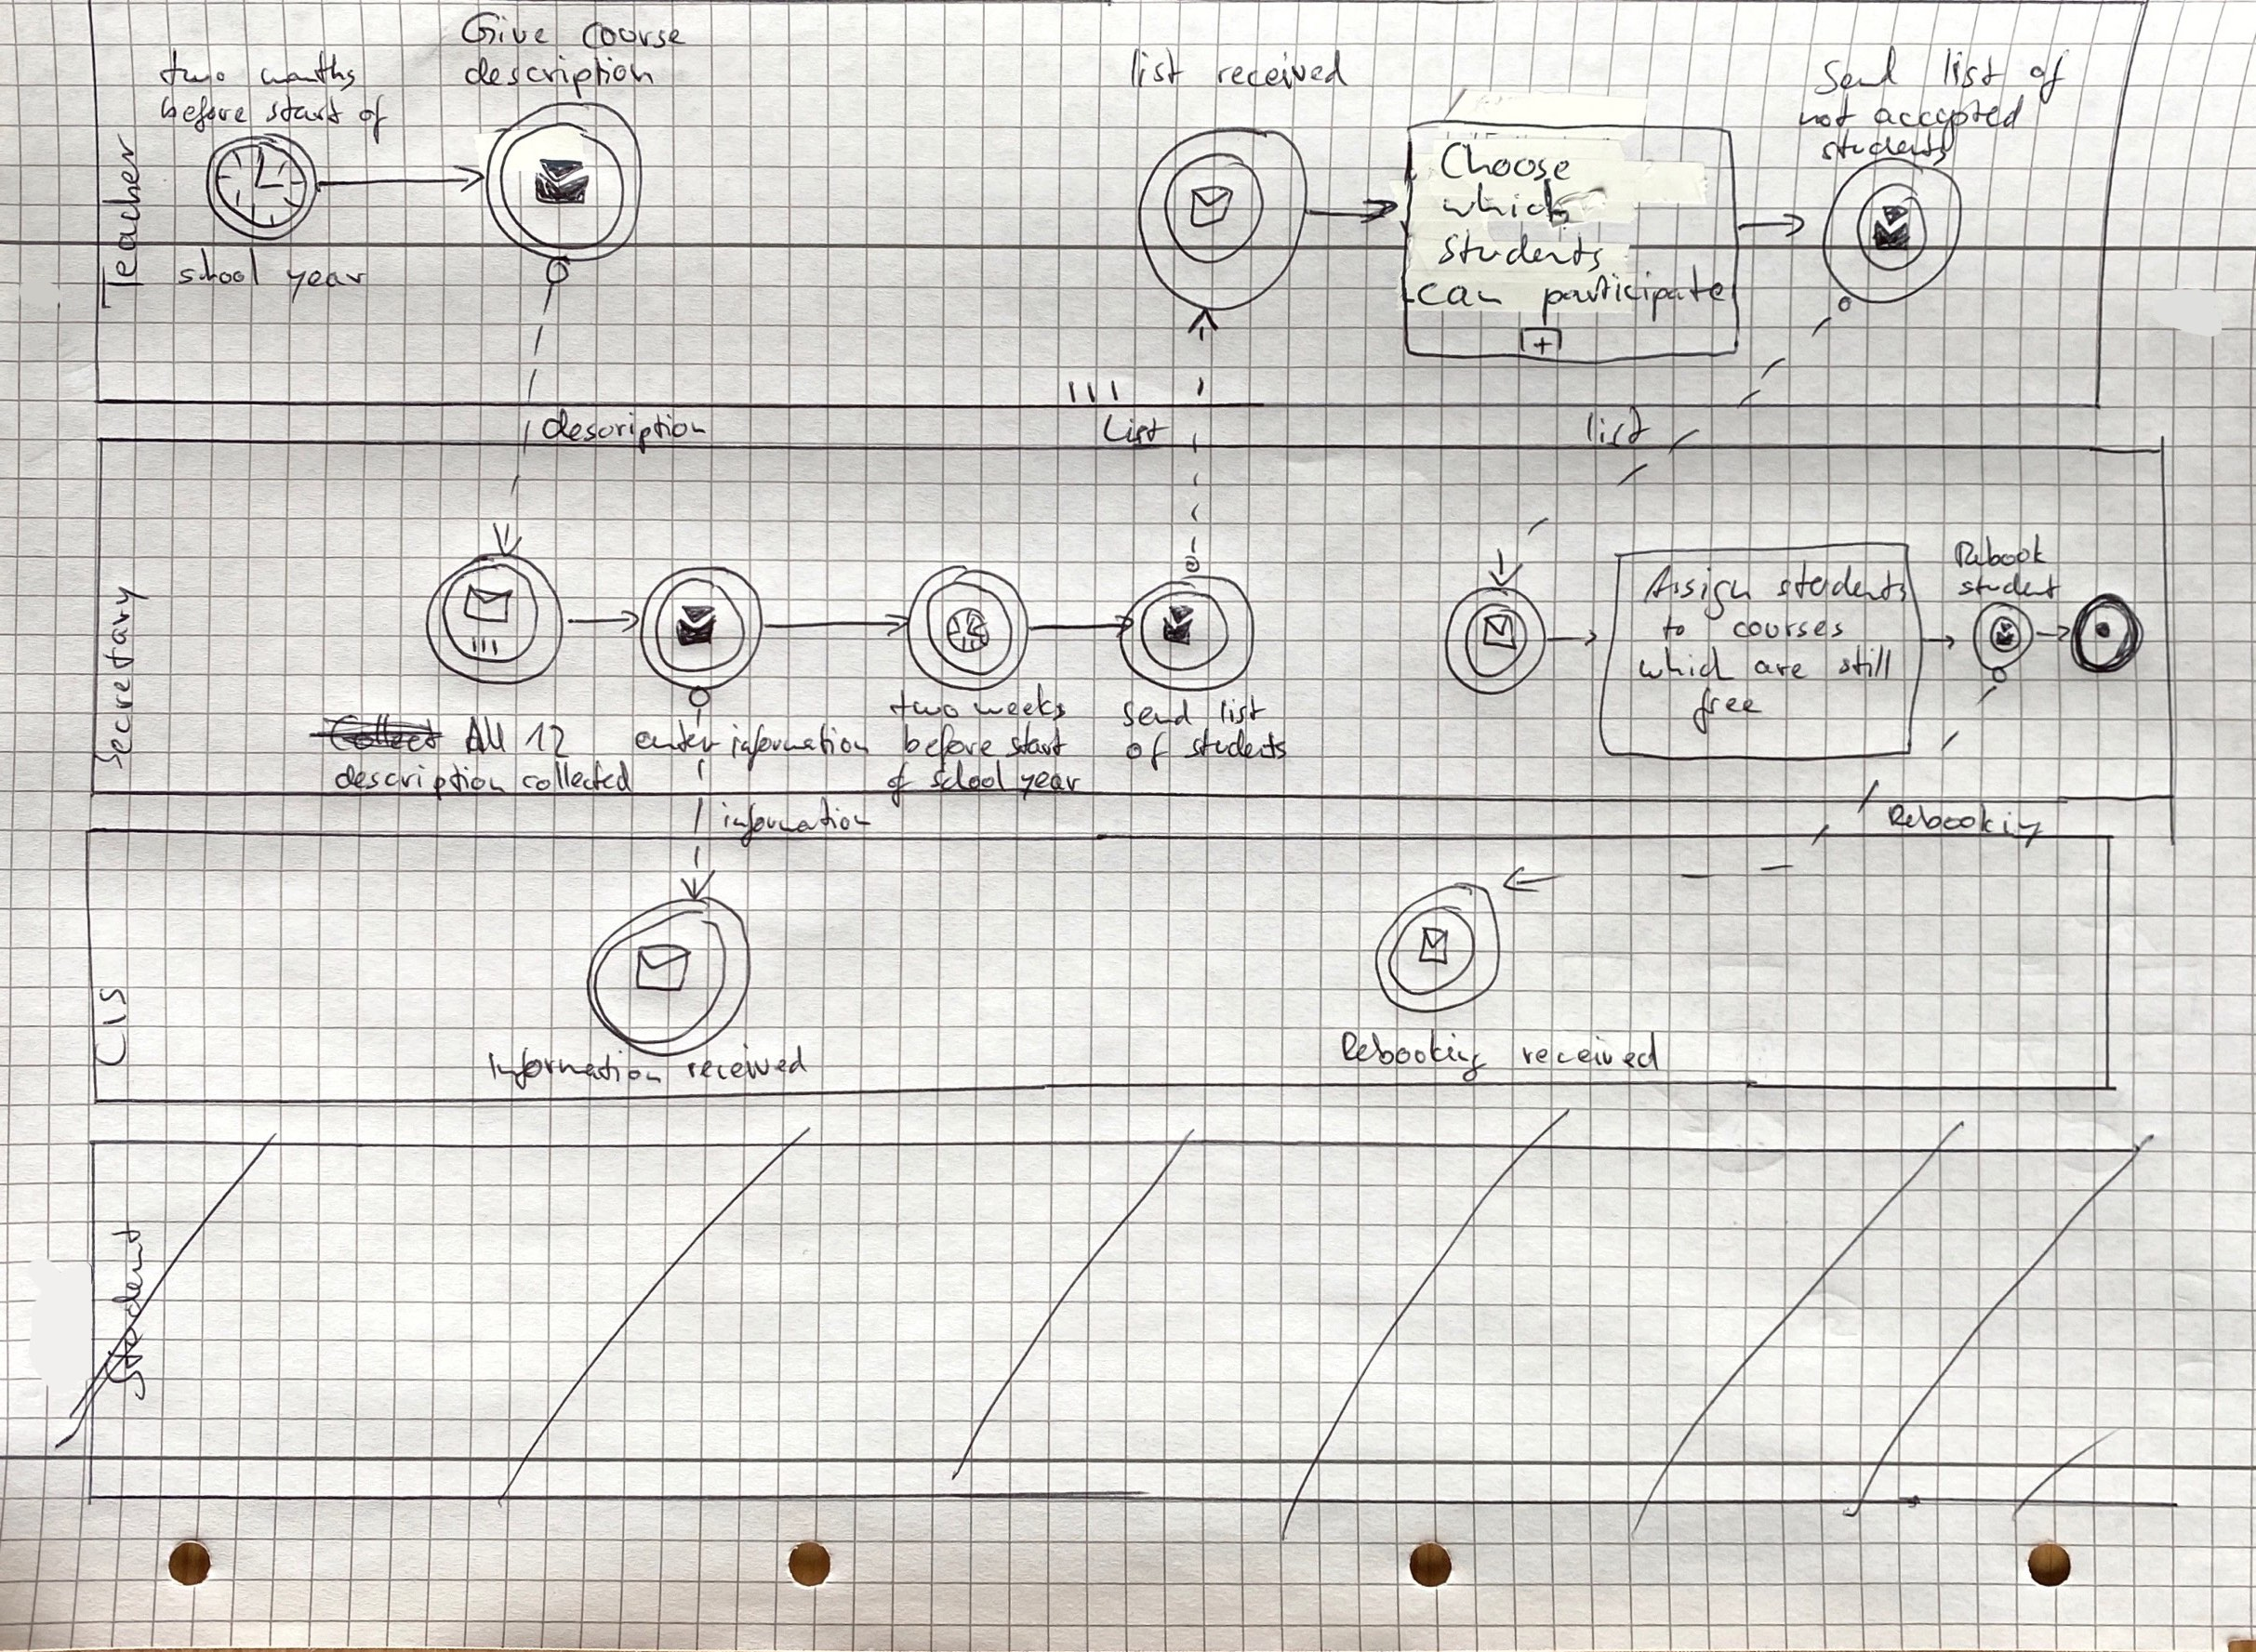12: (519, 714, 583, 761)
All: (464, 715, 520, 759)
Assign: (1646, 562, 1759, 618)
CIS: (92, 984, 131, 1067)
Choose: (1437, 145, 1573, 180)
Give: (465, 10, 553, 52)
III: (1064, 378, 1124, 405)
Information: (484, 1045, 664, 1091)
Rebook: (1950, 535, 2050, 571)
Rebooking: (1883, 800, 2043, 850), (1340, 1030, 1486, 1083)
Teacher: (101, 136, 153, 307)
accepted: (1869, 98, 2034, 132)
are: (1752, 652, 1821, 690)
before: (898, 724, 996, 765), (157, 93, 253, 133)
can: (1416, 277, 1518, 318)
collected: (520, 760, 633, 793)
course: (579, 21, 690, 50)
courses: (1727, 613, 1852, 649)
description: (469, 55, 658, 95), (338, 762, 516, 797), (538, 412, 705, 448)
enter: (631, 720, 715, 762)
free: (1688, 688, 1768, 726)
information: (719, 796, 877, 848), (723, 723, 872, 767)
list: (1095, 412, 1173, 454), (1938, 50, 2003, 95), (1582, 408, 1648, 450), (1128, 48, 1181, 94), (1215, 692, 1268, 730)
months: (258, 50, 355, 95)
not: (1799, 99, 1863, 133)
of: (2029, 50, 2070, 105), (1121, 732, 1176, 772), (354, 97, 391, 148), (882, 759, 918, 808)
participate: (1543, 273, 1731, 318)
received: (1212, 54, 1348, 95), (1518, 1030, 1663, 1067), (683, 1050, 809, 1085)
school: (175, 250, 265, 292), (929, 760, 1010, 797)
secretary: (98, 587, 149, 774)
send: (1811, 51, 1901, 92), (1117, 694, 1197, 731)
start: (265, 96, 350, 130), (1002, 726, 1069, 764)
still: (1834, 647, 1896, 685)
student: (1955, 567, 2065, 605)
students: (1434, 231, 1608, 277), (1775, 565, 1912, 606), (1820, 130, 1957, 166), (1183, 729, 1284, 759)
to: (1657, 610, 1692, 643)
two: (160, 51, 233, 95), (885, 688, 961, 717)
weeks: (974, 686, 1069, 726)
which: (1440, 184, 1571, 224), (1638, 647, 1738, 687)
year: (285, 264, 366, 305), (1018, 772, 1084, 800)
